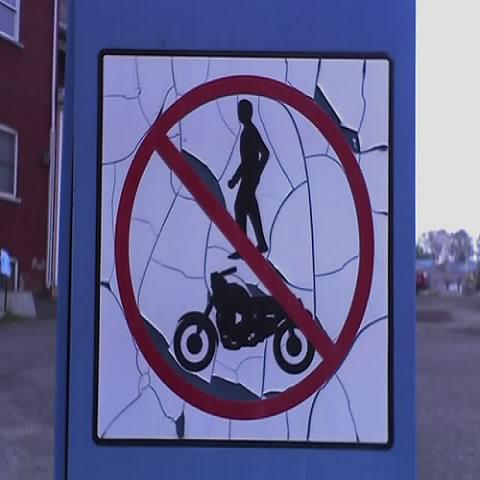motorcycle: (174, 264, 315, 378)
